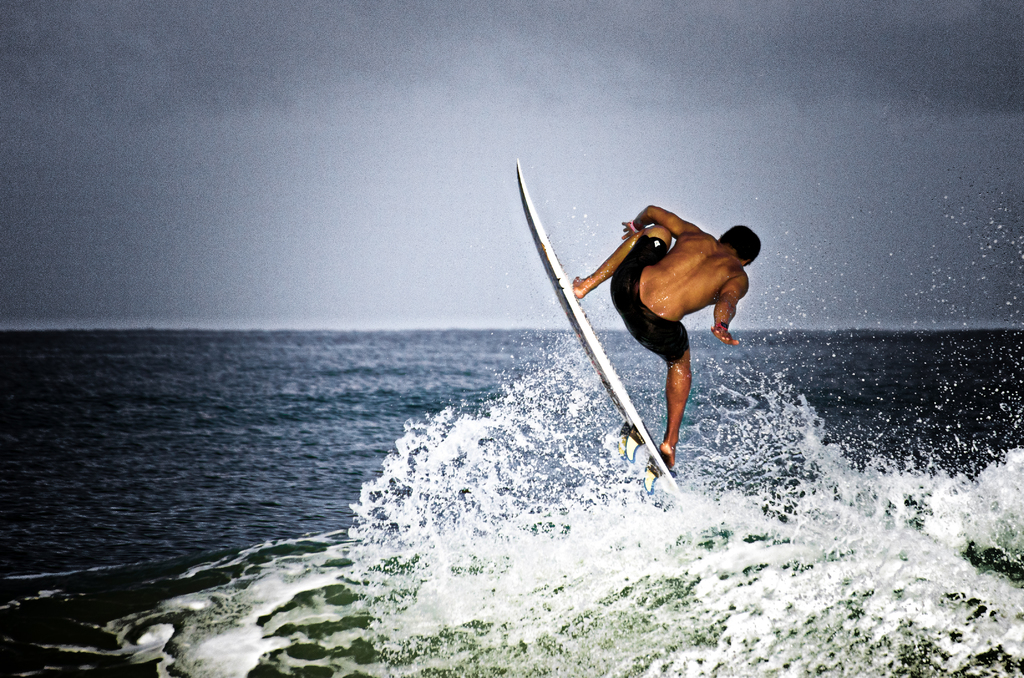Person: (572, 204, 761, 468)
